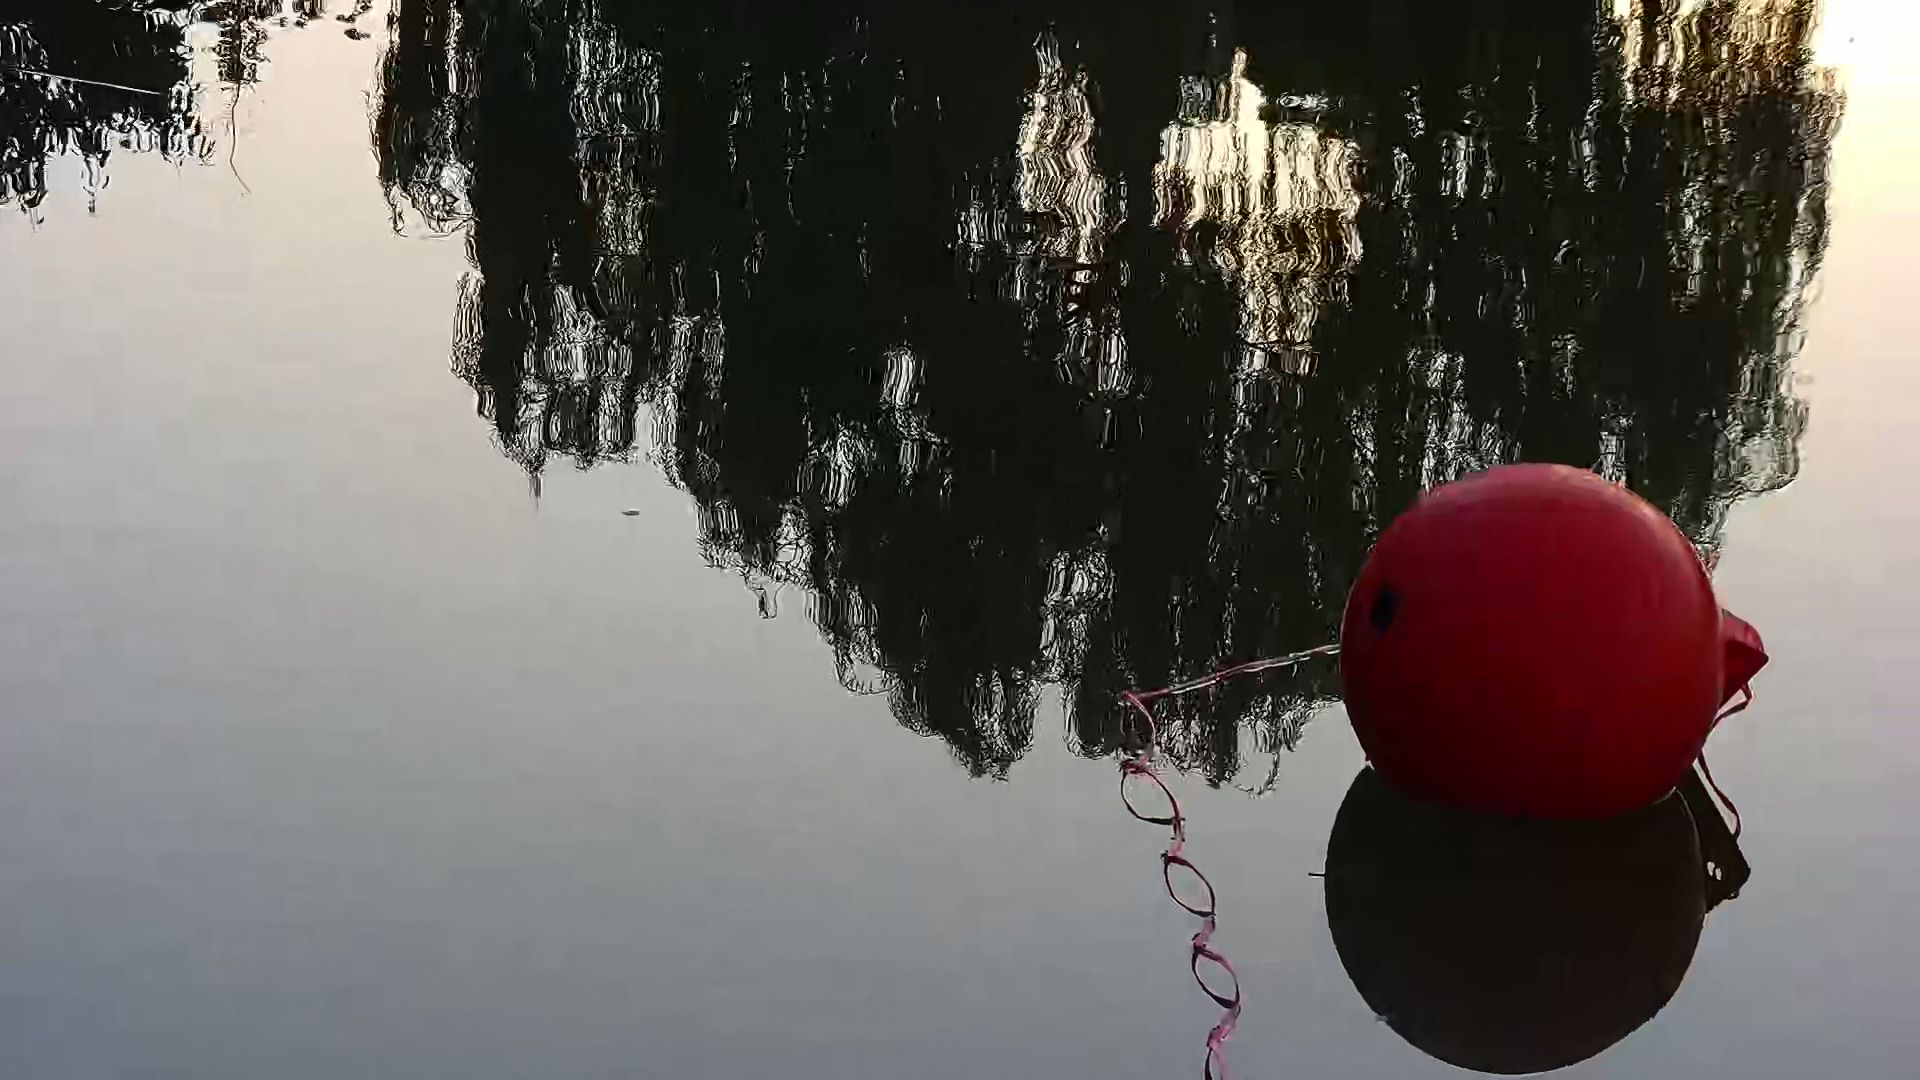ball: (1325, 463, 1774, 825)
